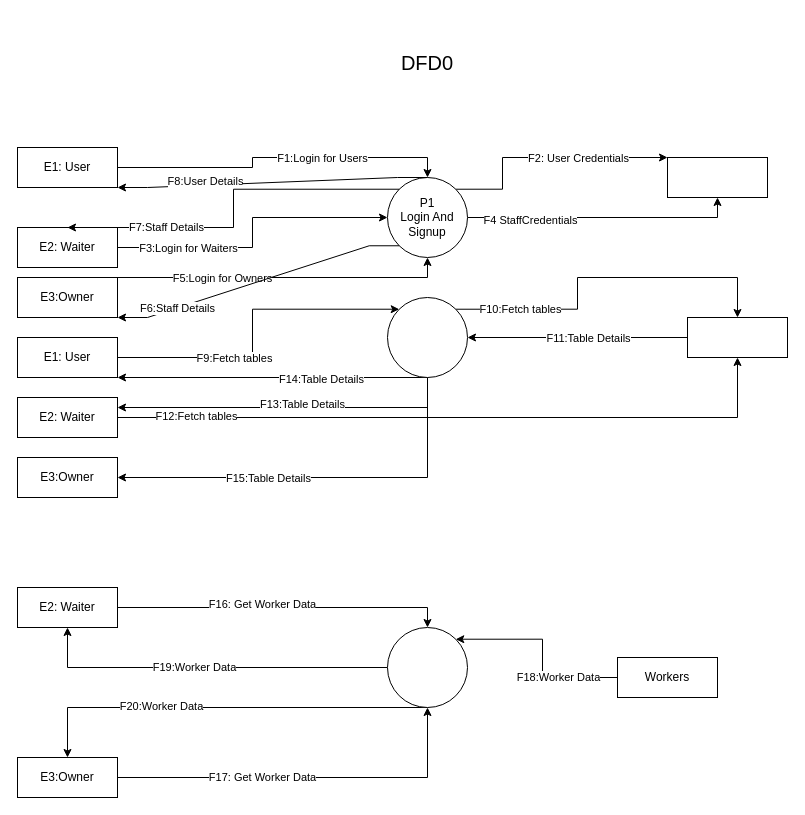
This 805x815 diagram has some shape labels left out. Here are the shapes that lost their labels. From the top down, the box of each, then its label:
(666, 156, 768, 198): Users
(386, 296, 468, 378): P2 Table Data
(686, 316, 788, 358): Tables
(386, 626, 468, 708): P3 Worker Data
